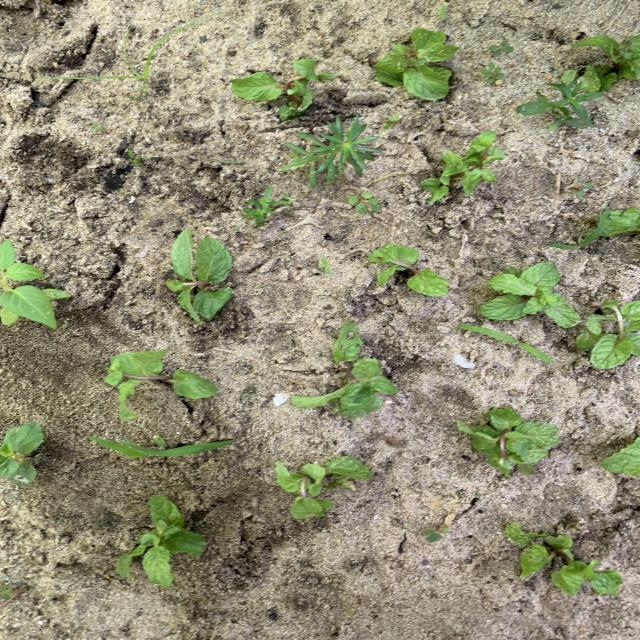crop: (292, 321, 399, 418), (507, 522, 621, 595), (116, 496, 203, 587), (106, 351, 215, 418), (458, 408, 559, 474), (481, 263, 579, 326), (166, 230, 232, 322), (232, 60, 333, 119), (276, 457, 372, 519), (375, 29, 459, 98), (421, 132, 503, 201), (561, 35, 640, 92), (577, 300, 639, 367), (369, 245, 447, 295), (564, 209, 639, 247), (0, 423, 43, 483), (603, 436, 639, 474)
weed: (50, 12, 223, 88), (280, 116, 381, 187), (0, 240, 69, 329), (518, 76, 599, 127), (460, 325, 551, 361), (90, 437, 235, 457), (552, 209, 619, 247), (243, 187, 293, 223), (424, 512, 455, 541), (349, 191, 379, 212), (480, 63, 503, 82), (576, 177, 592, 196), (489, 41, 512, 54), (128, 149, 143, 166), (317, 257, 331, 272), (384, 114, 399, 128), (93, 122, 106, 132), (439, 5, 446, 19), (235, 226, 239, 231)
